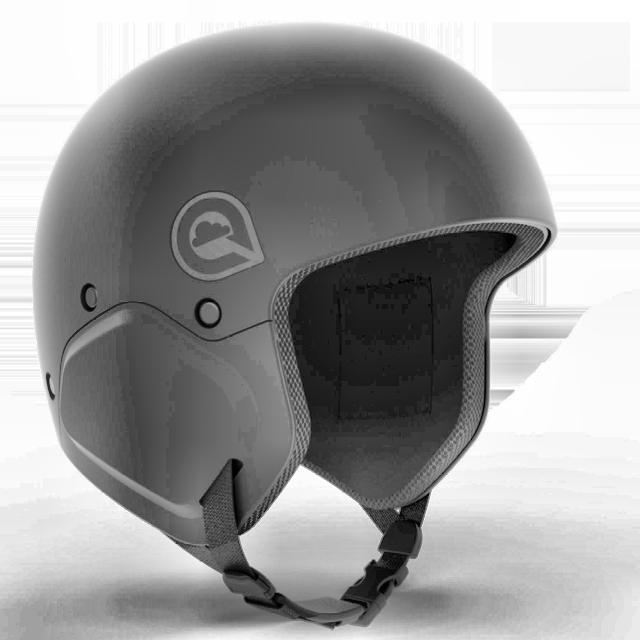Helmet: (26, 3, 564, 640)
